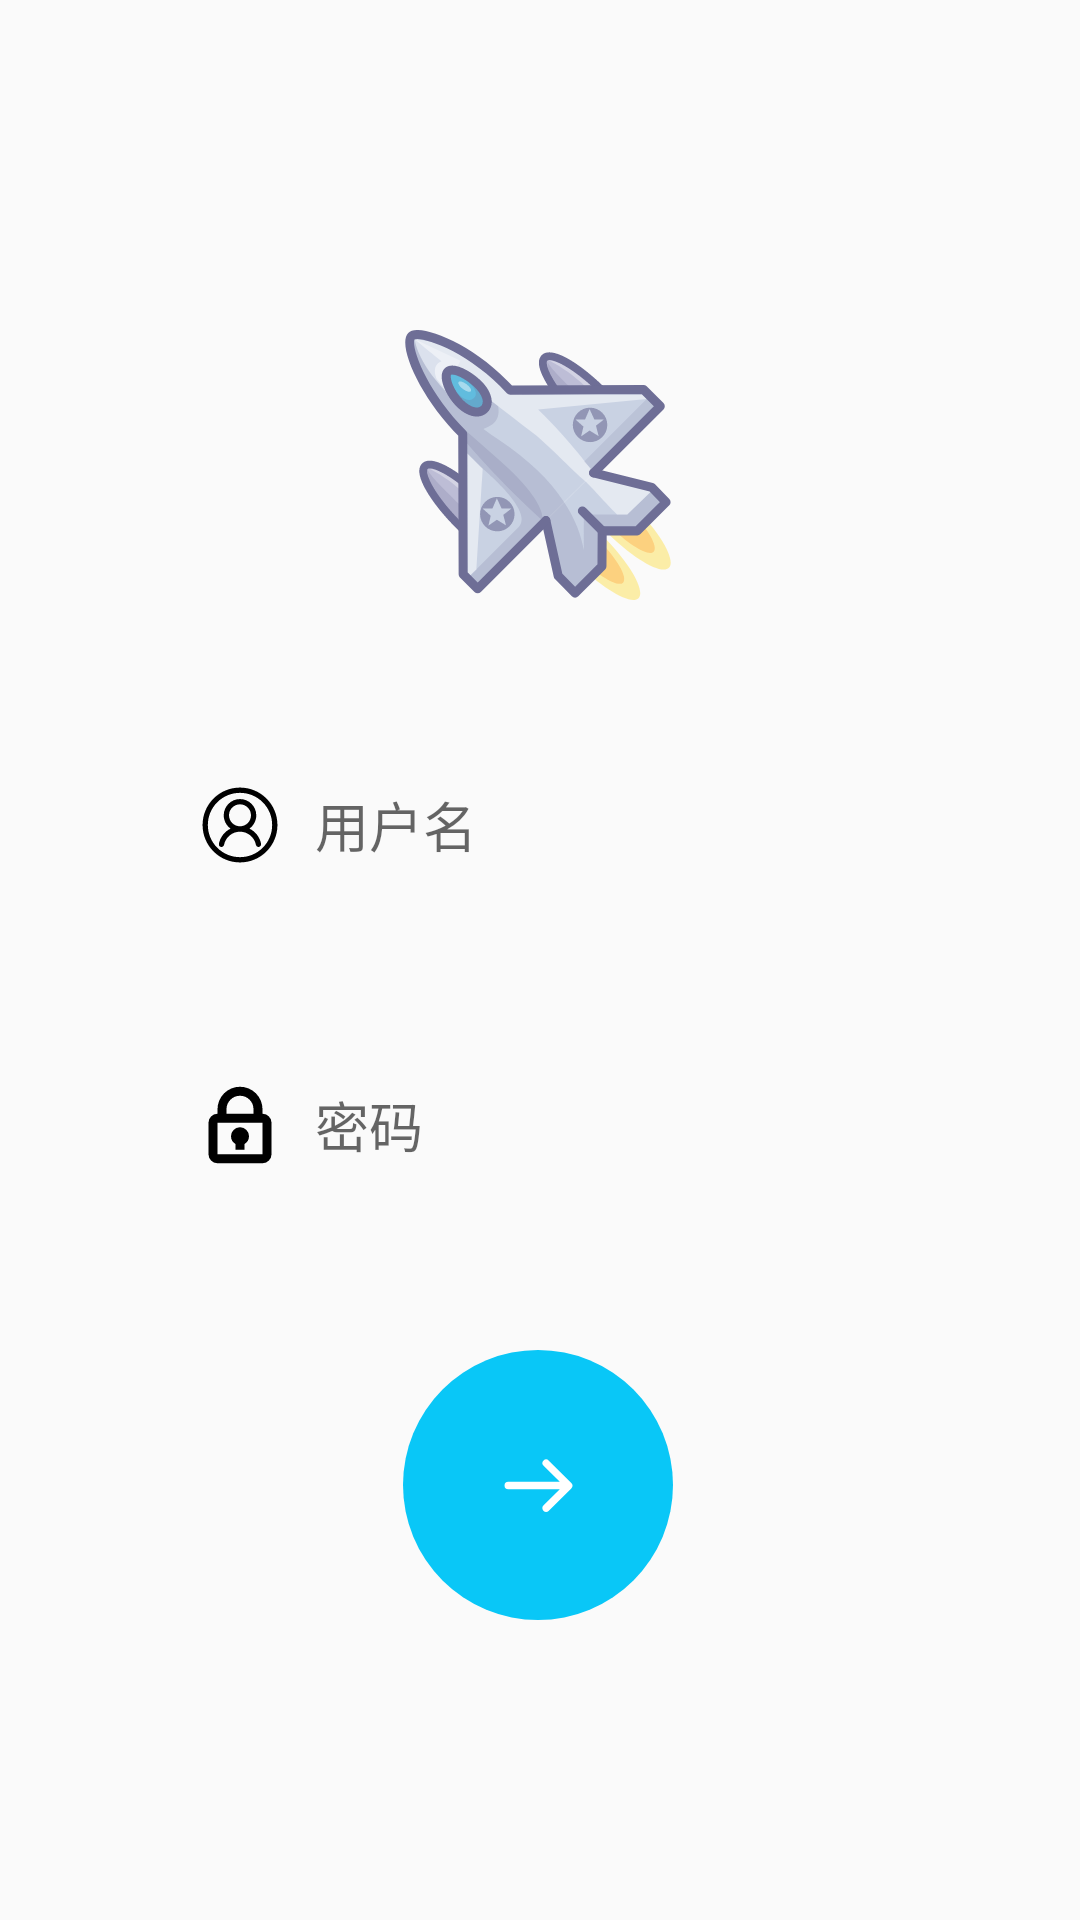

Named icons in this screenshot (1080px×1920px) and their bounding boxes, (x1=x1, y1=y1, x2=x2, y2=y2):
aircraft: (x1=405, y1=330, x2=671, y2=600)
login: (x1=403, y1=1350, x2=673, y2=1620)
